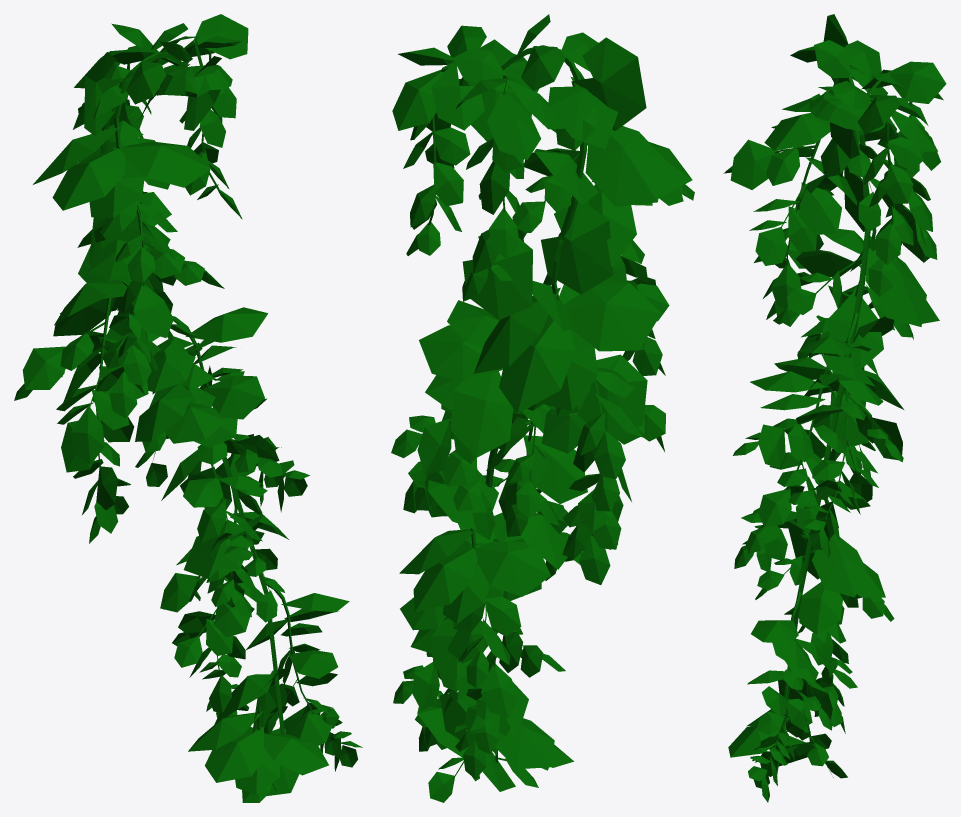
The model's file is Vegetation_Modular_New_Plant_Creeper_Ivy_04.FBX.
The picture shows the model from 3 angles, left to right: view 1: azimuth 30°, elevation 25°; view 2: azimuth 150°, elevation 25°; view 3: azimuth 270°, elevation 25°; orthographic projection. The views are drawn at different scales.
Parts seen in each view (by area): view 1: Vegetation_Modular_New_Plant_Creeper_Ivy_04; view 2: Vegetation_Modular_New_Plant_Creeper_Ivy_04; view 3: Vegetation_Modular_New_Plant_Creeper_Ivy_04.
Boxes of the visible parts, x1,y1,x2,y2 form: Vegetation_Modular_New_Plant_Creeper_Ivy_04: (14,14,362,802); Vegetation_Modular_New_Plant_Creeper_Ivy_04: (391,14,694,802); Vegetation_Modular_New_Plant_Creeper_Ivy_04: (723,14,946,802).
Bounding box in the file's own units: 1405 × 3664 × 1055.
